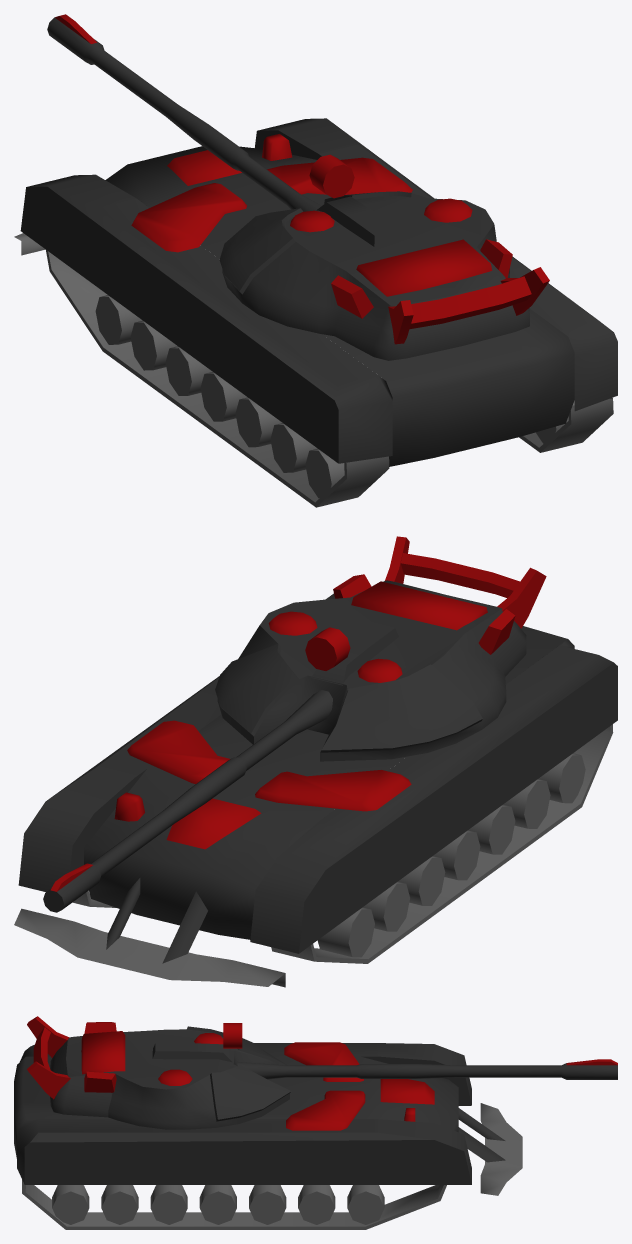
Rendered from heavy_tank00.glb.
The picture shows the model from 3 angles, top to bottom: view 1: azimuth 30°, elevation 25°; view 2: azimuth 150°, elevation 25°; view 3: azimuth 270°, elevation 25°; orthographic projection. The views are drawn at different scales.
Parts seen in each view (by area): view 1: chassis, turret; view 2: chassis, turret; view 3: chassis, turret.
Part boxes in pixels (x1,y1,x2,y2): chassis: [14, 118, 617, 507]; turret: [47, 14, 549, 360]; chassis: [14, 593, 617, 987]; turret: [43, 536, 546, 912]; chassis: [14, 1042, 522, 1229]; turret: [27, 1016, 617, 1129].
Bounding box in the file's own units: 3.27 × 2.54 × 8.71.
1 material, 1 textured.
